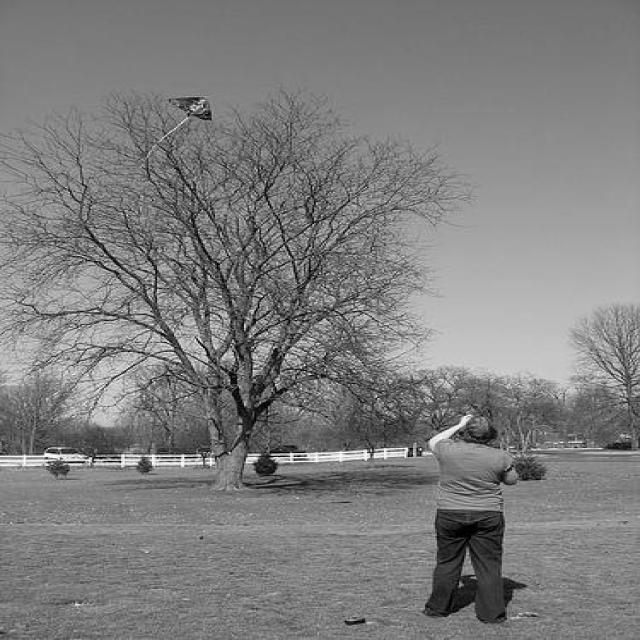vehicle: (45, 446, 85, 460), (270, 444, 306, 452), (511, 443, 534, 449)
